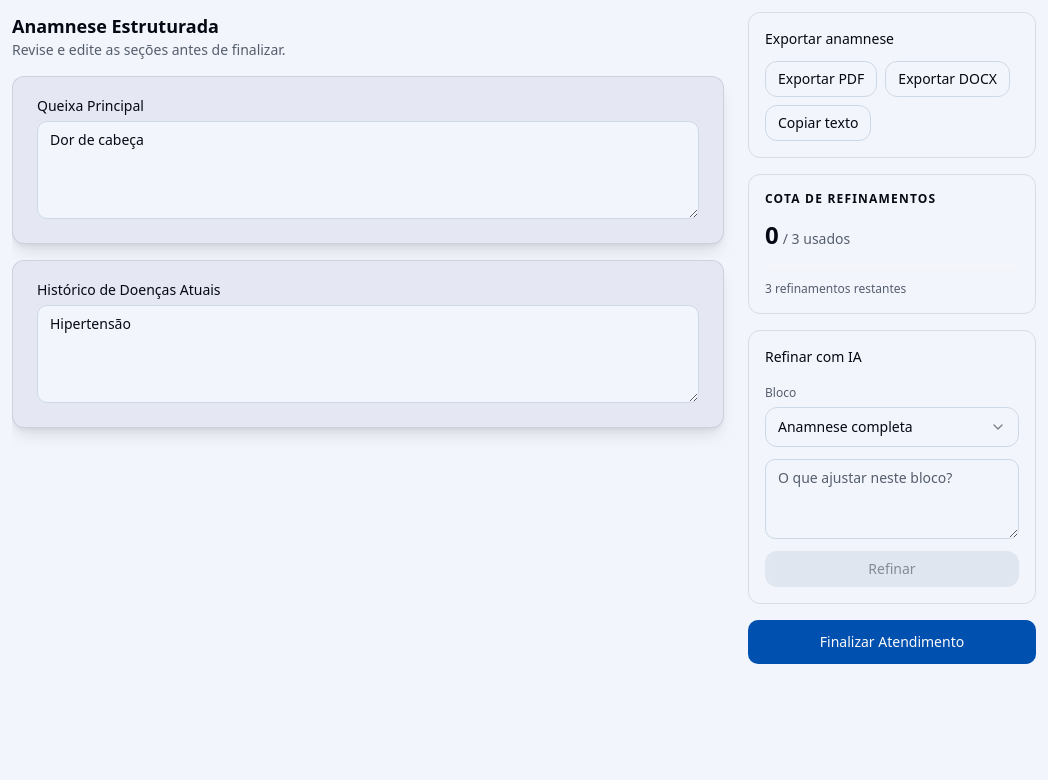
StepAnamnesis — select de bloco no refinamento › botão Refinar fica habilitado ao preencher instrução com bloco padrão
This screenshot has width=1048, height=780.
Type "Tom mais formal" into the text box with placeholder "O que ajustar neste bloco?".
click(892, 499); type("Tom mais formal")  # box [765,459,1019,539]
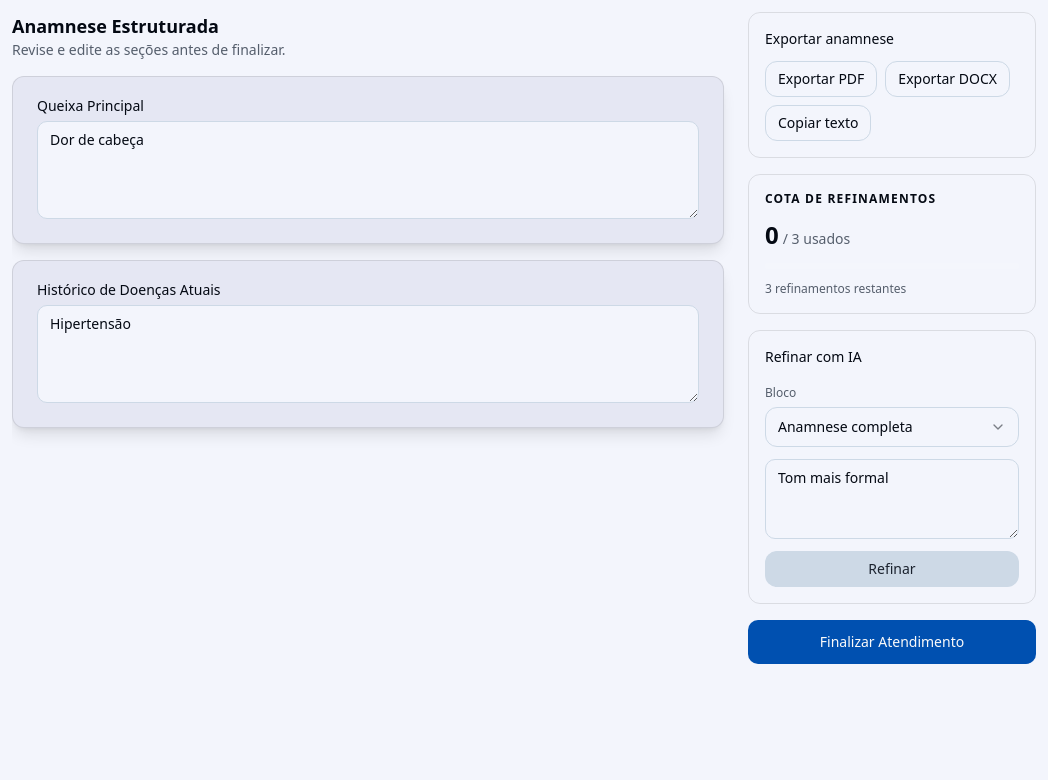
Result: the button "Refinar" is enabled at [765,551,1019,587]
